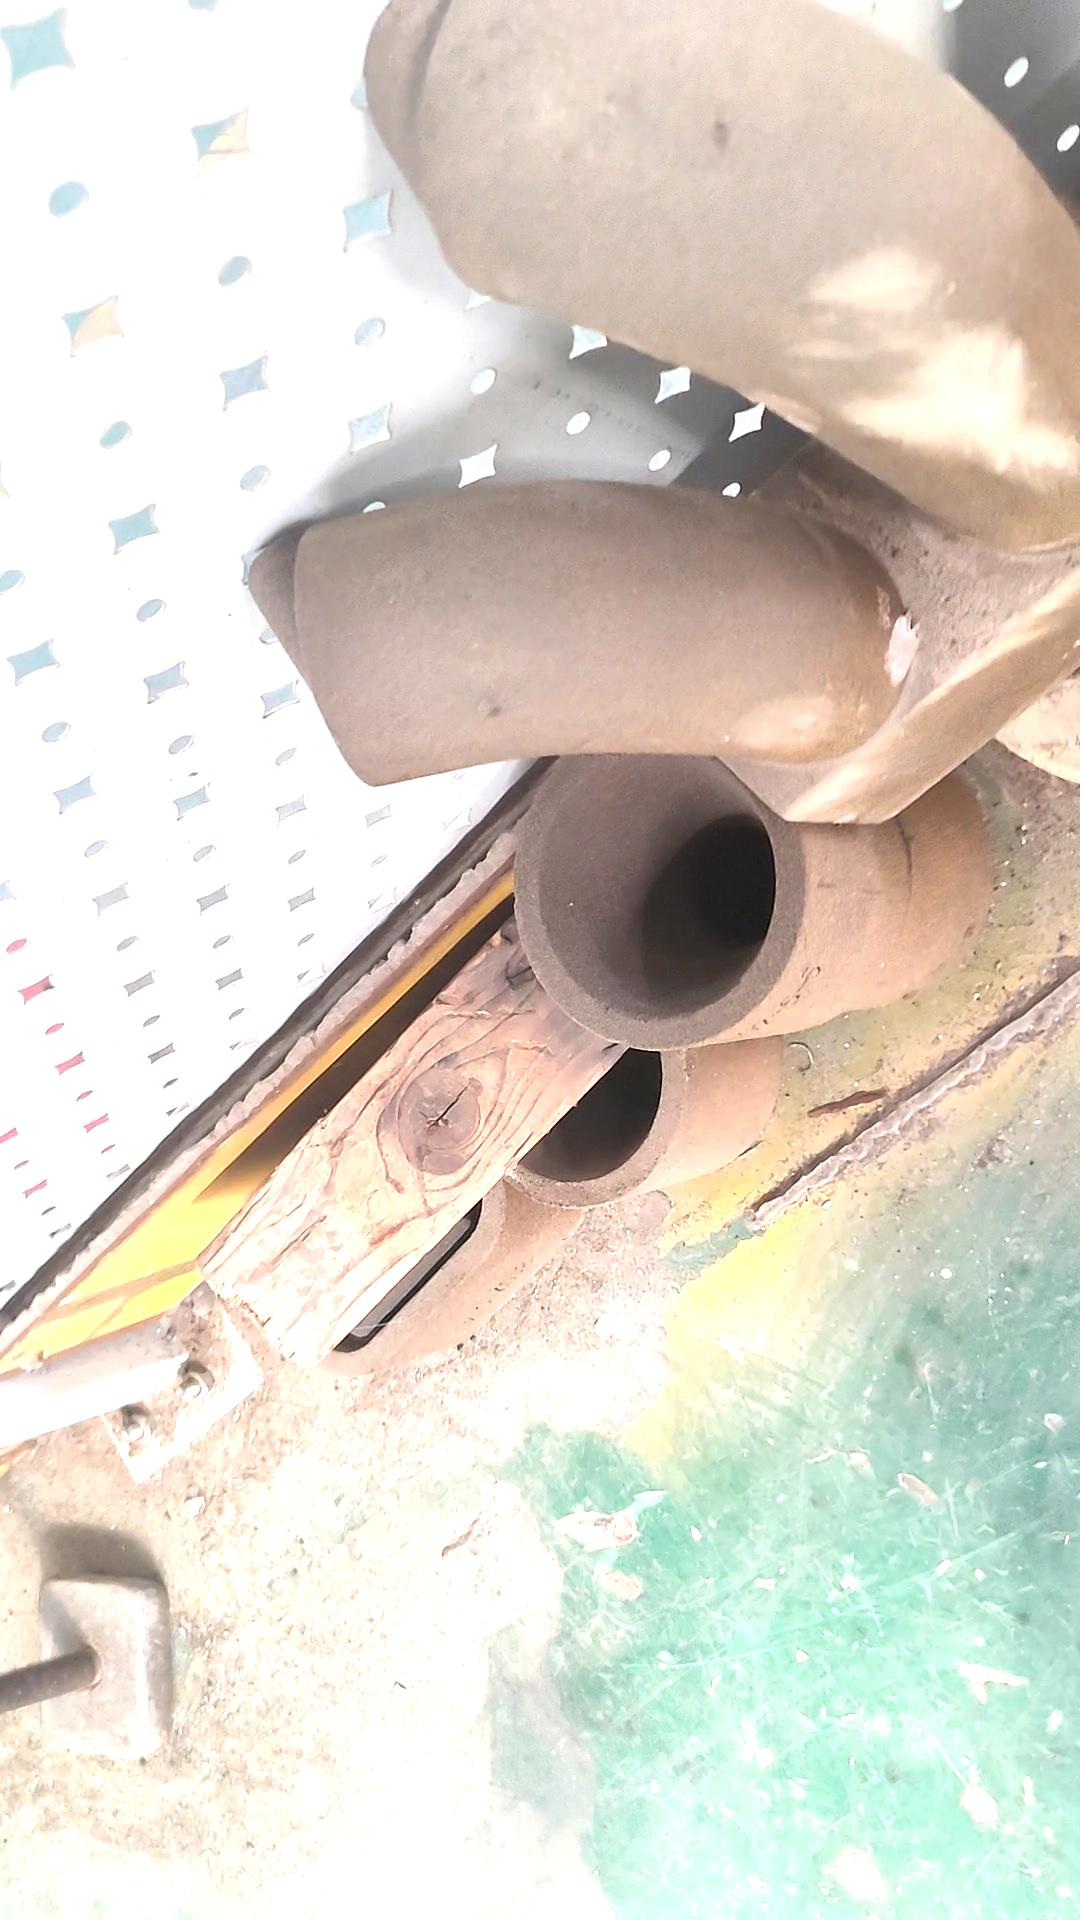pouring hole: (530, 735, 779, 1015), (469, 997, 665, 1180)
